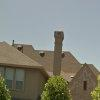Chimney: (42, 25, 67, 77)
